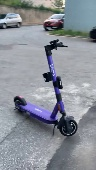beam: (12, 38, 79, 138)
